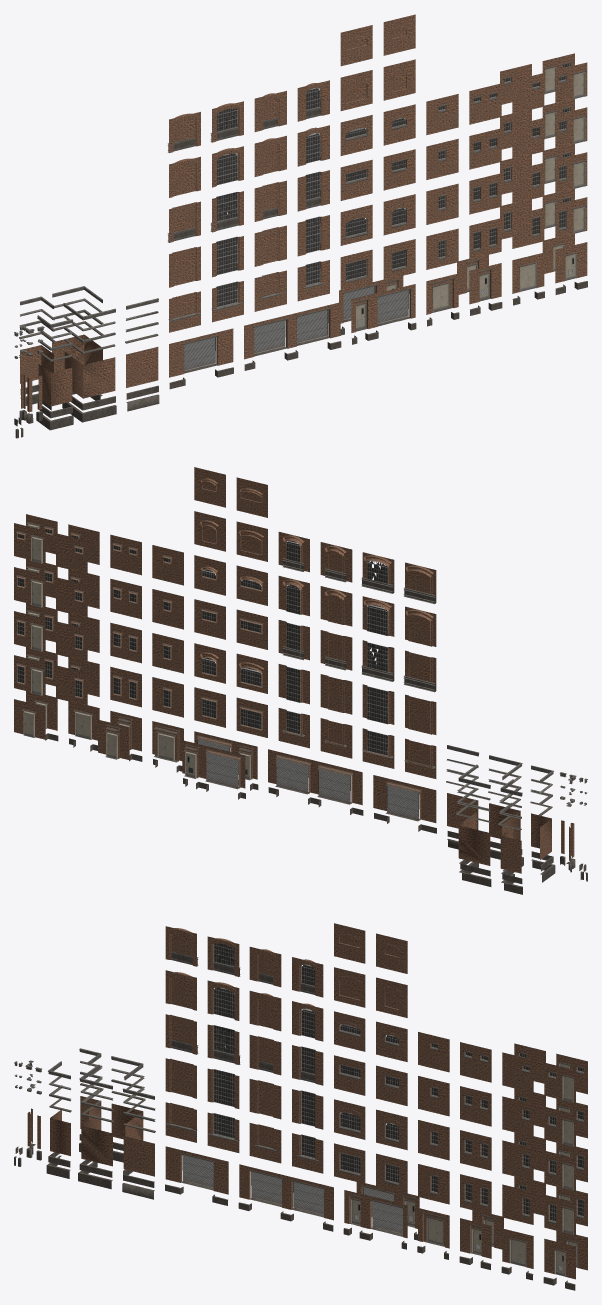
File: factory-mid.glb
3 views of the same model, one above another, from view 1: azimuth 30°, elevation 25°; view 2: azimuth 150°, elevation 25°; view 3: azimuth 330°, elevation 25° (orthographic).
Parts seen in each view (by area): view 1: wall_standard_standard_01, window_centered_medium_03, dado_standard_corner_large_01, cornice02_standard_standard_01, door_recessed_large_01; view 2: wall_standard_standard_01, window_centered_medium_03, dado_standard_corner_large_01, cornice02_standard_standard_01, door_recessed_large_01; view 3: wall_standard_standard_01, window_centered_medium_03, dado_standard_corner_large_01, cornice02_standard_standard_01, door_recessed_large_01.
Part boxes in pixels (box(x1,y1,x2,y2)): wall_standard_standard_01: box(20, 14, 587, 412); window_centered_medium_03: box(19, 61, 586, 361); dado_standard_corner_large_01: box(14, 281, 587, 426); cornice02_standard_standard_01: box(14, 107, 324, 438); door_recessed_large_01: box(356, 67, 585, 329); wall_standard_standard_01: box(14, 467, 574, 873); window_centered_medium_03: box(16, 522, 552, 830); dado_standard_corner_large_01: box(34, 718, 586, 883); cornice02_standard_standard_01: box(282, 558, 587, 894); door_recessed_large_01: box(23, 524, 250, 779); wall_standard_standard_01: box(27, 923, 587, 1279); window_centered_medium_03: box(49, 943, 584, 1252); dado_standard_corner_large_01: box(15, 1134, 575, 1290); cornice02_standard_standard_01: box(14, 951, 318, 1199); door_recessed_large_01: box(350, 1063, 577, 1276).
Bounding box in the file's own units: 53.33 × 29 × 5.36.
6 materials, 6 textured.
